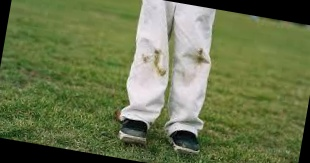earth: (193, 46, 207, 66), (152, 49, 160, 65), (157, 68, 166, 77)
